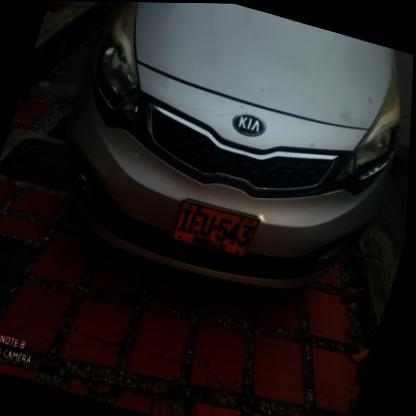placa: (166, 192, 264, 263)
